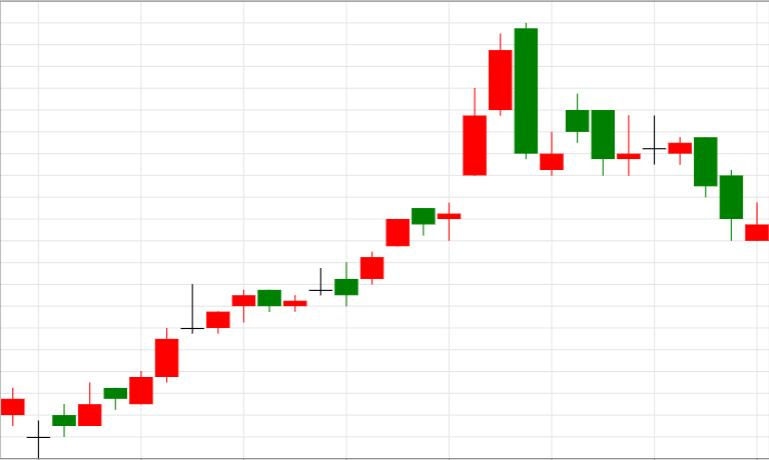bearish_engulfing_fall: (361, 22, 538, 283)
